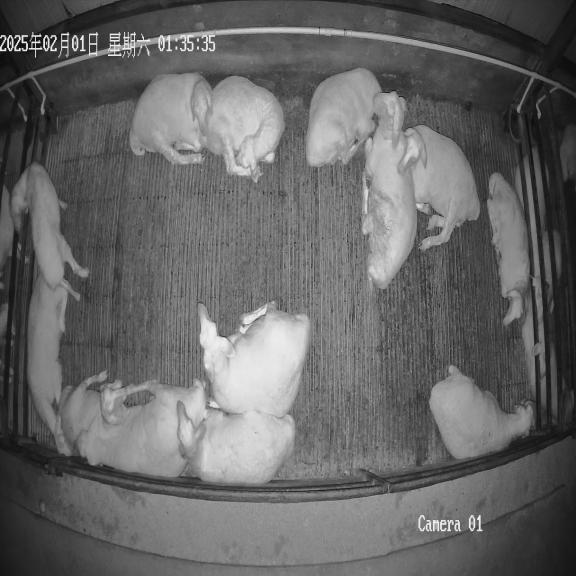lying: (198, 302, 310, 418), (77, 380, 207, 478), (361, 91, 416, 289), (400, 124, 480, 250), (429, 365, 534, 460), (27, 270, 80, 455), (178, 409, 295, 484), (206, 76, 284, 182), (129, 73, 211, 164), (306, 68, 381, 167), (486, 172, 529, 326), (59, 371, 141, 447), (128, 380, 164, 393)
stand: (11, 162, 88, 289)
